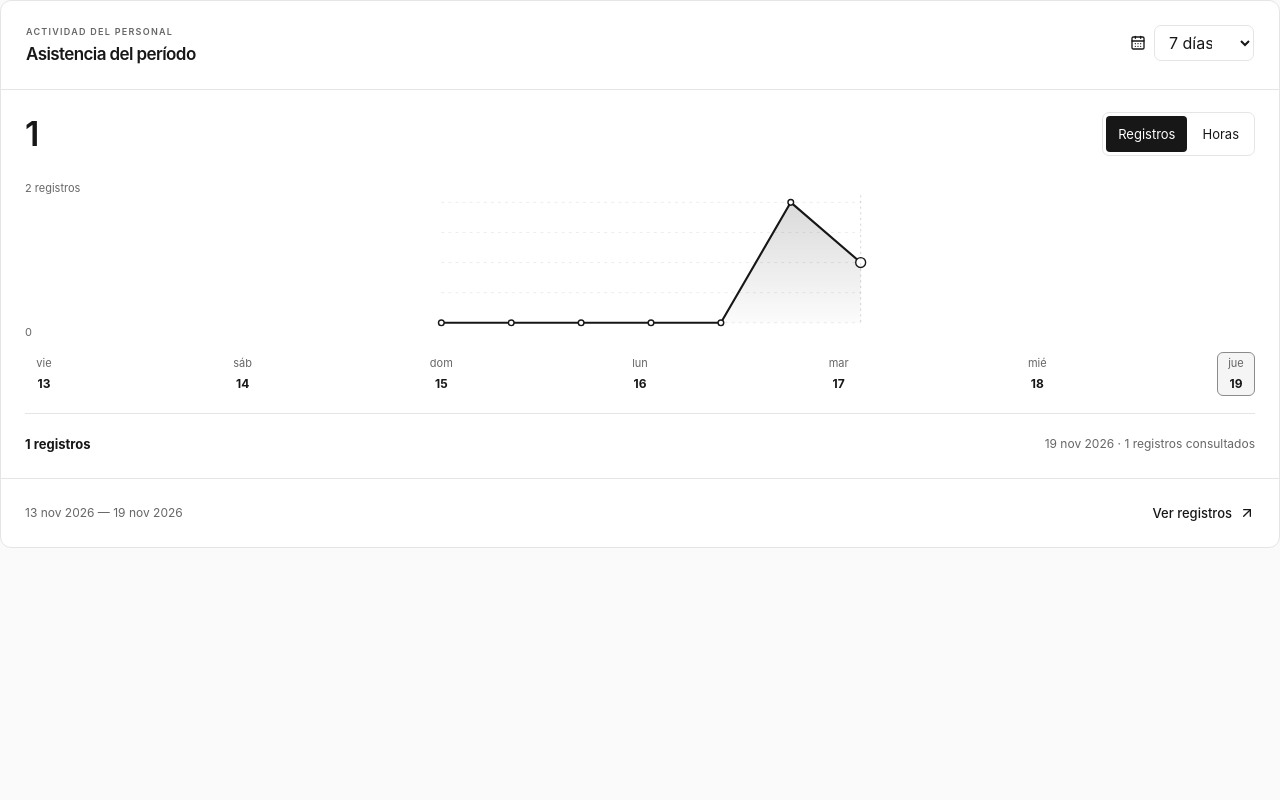
Scenario: mantiene la selección por fecha al ampliar el período y vuelve al día actual si queda fuera
This screenshot has width=1280, height=800.
Click the button with aria-label "18 nov 2026: 2 registros" at (1037,374), box [1018,352,1056,396]
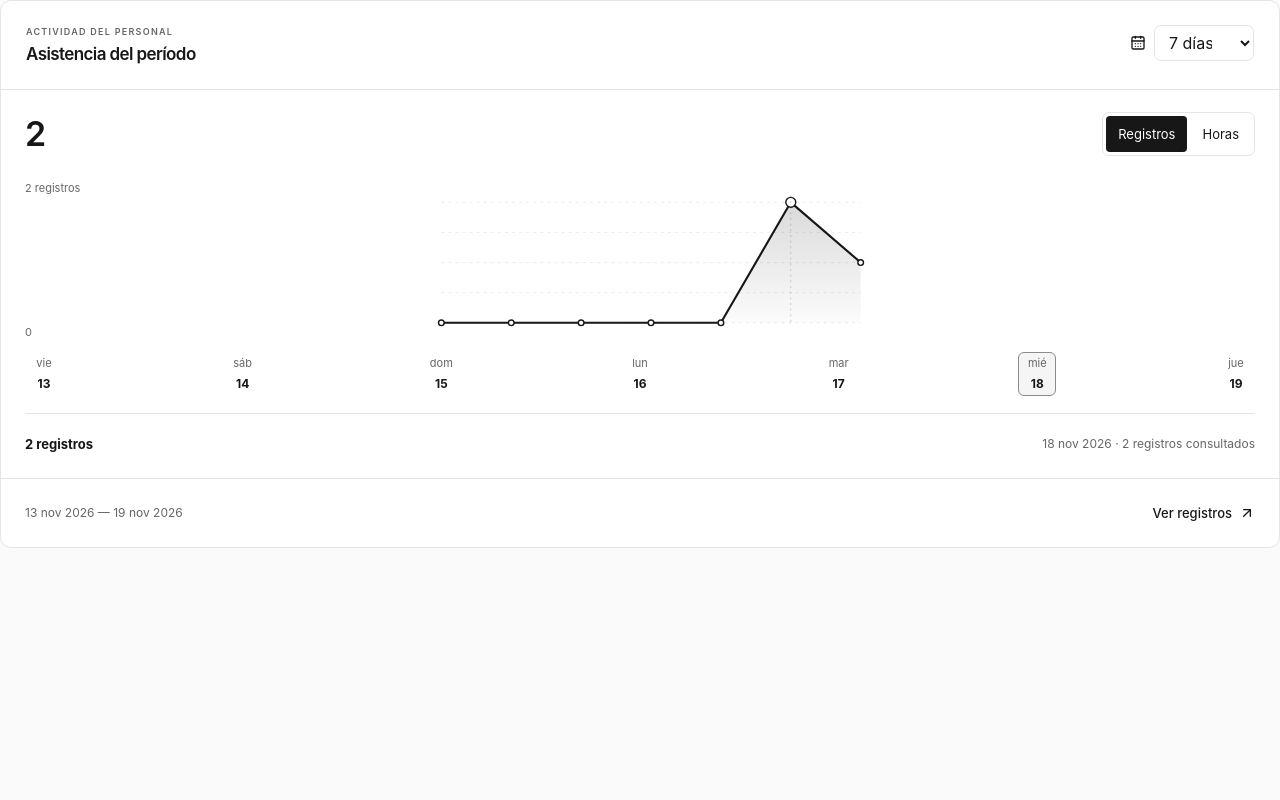
Select "14 días" in the dropdown named "Período del gráfico de asistencia" at (1204,43), box [1154,25,1254,61]
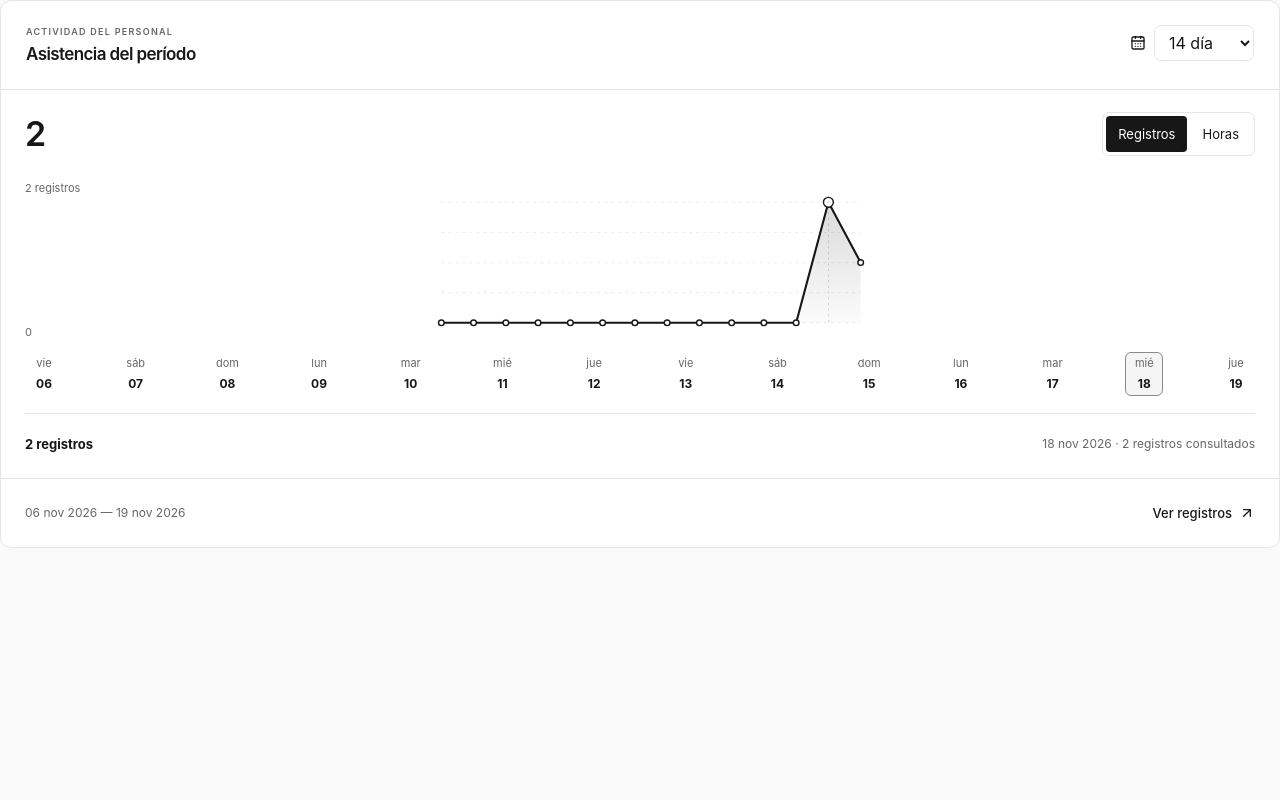
Click the button "vie 06" at (44,374), box [25,352,63,396]
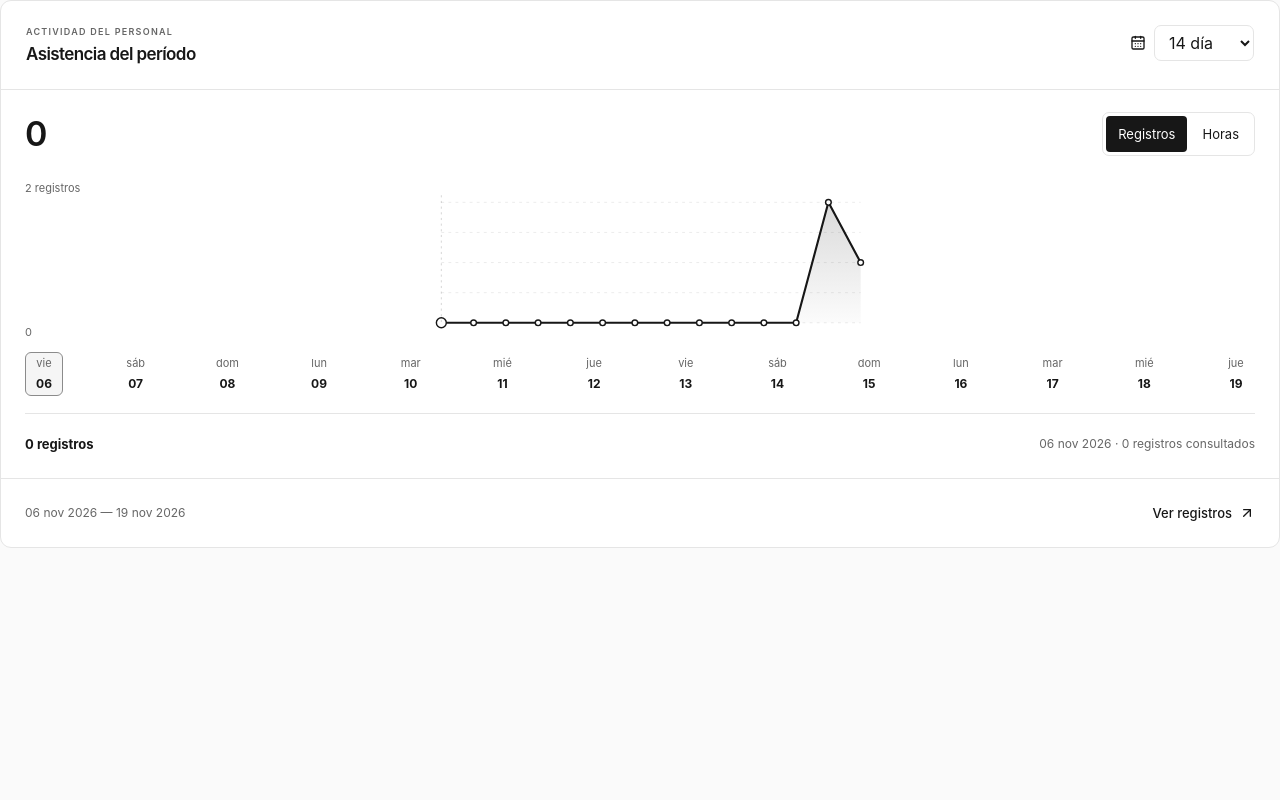
Select "7 días" in the dropdown named "Período del gráfico de asistencia" at (1204,43), box [1154,25,1254,61]
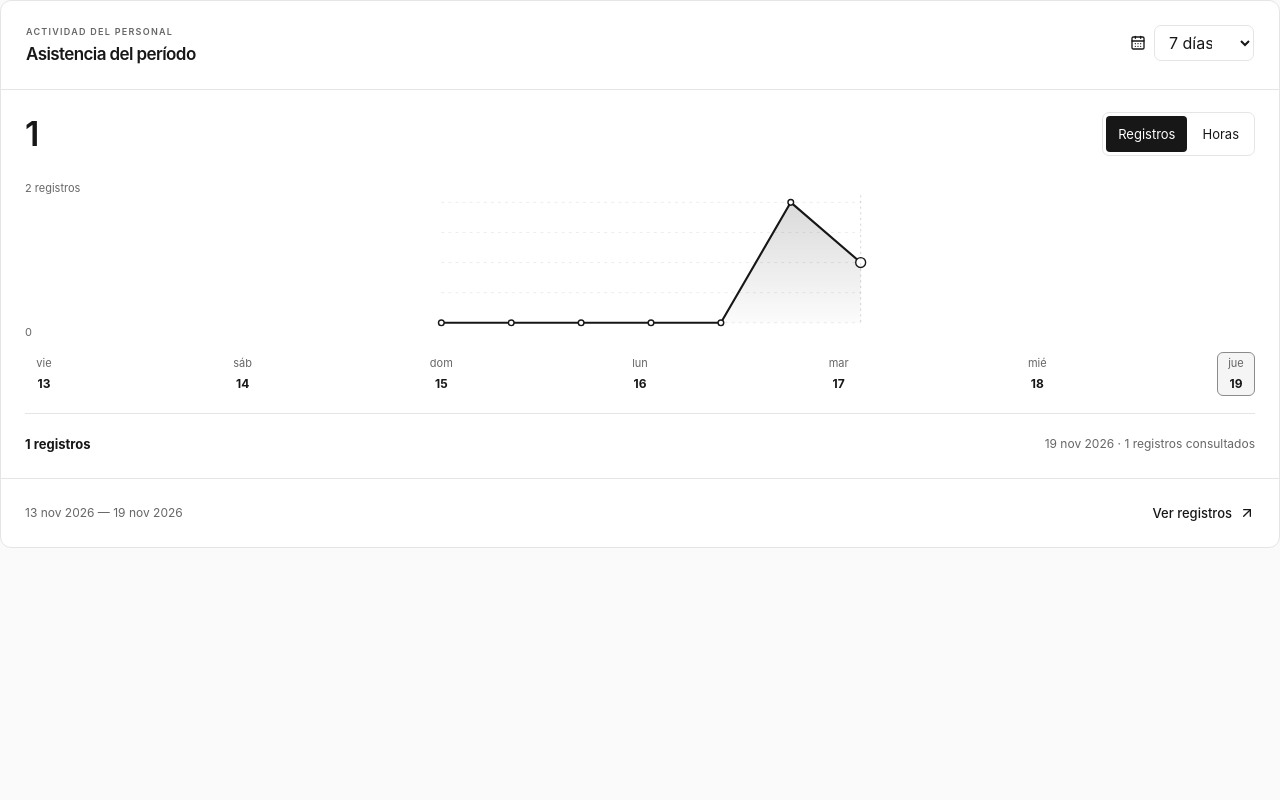
Check: the text with class "total-asistencia" reads "1", box [25,117,38,151]
